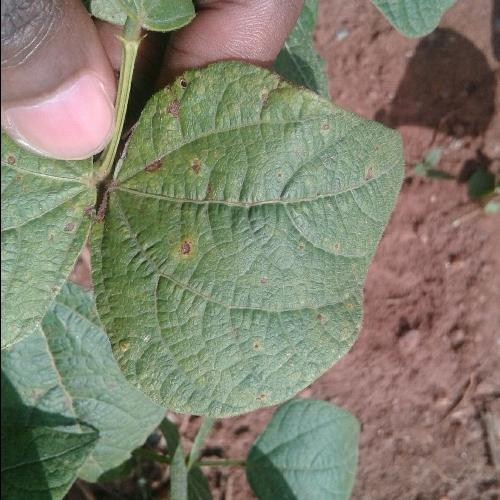embun tepung: (62, 81, 360, 358)
